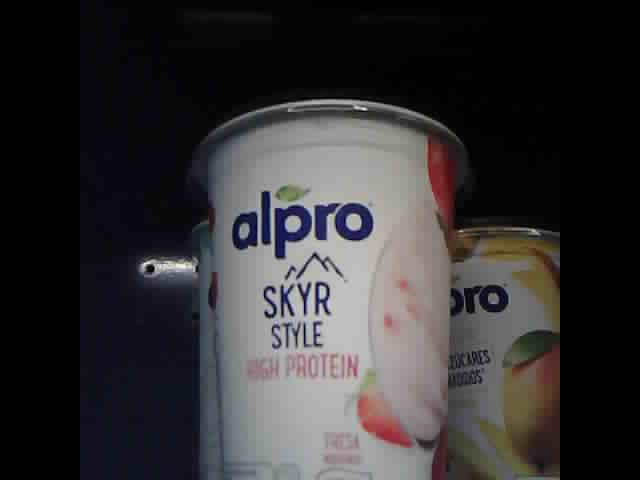alpro: (191, 97, 466, 480), (447, 217, 560, 479)
